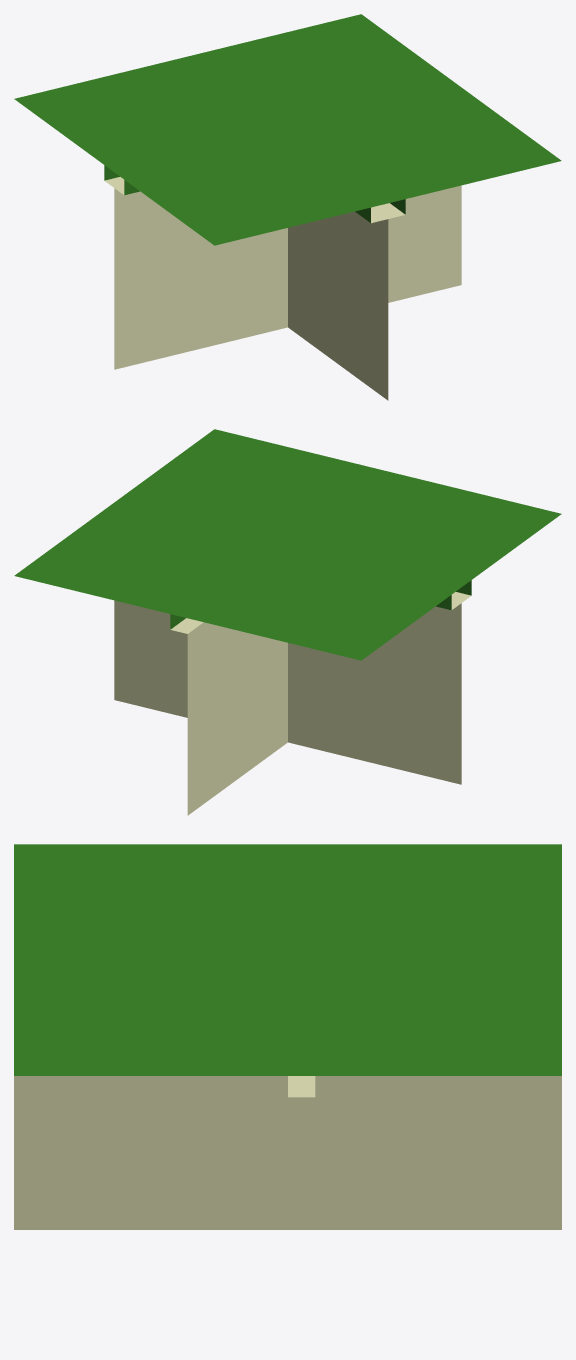
The model's file is testIslands.fbx.
3 renders of one model, top to bottom at view 1: azimuth 30°, elevation 25°; view 2: azimuth 150°, elevation 25°; view 3: azimuth 270°, elevation 25°, orthographic. The views are drawn at different scales.
Parts seen in each view (by area): view 1: doubleCorner, centerWall, innerCorner, cornerWall, sideWall; view 2: centerWall, innerCorner, cornerWall, doubleCorner, sideWall; view 3: centerWall, innerCorner, sideWall, doubleCorner, cornerWall.
Boxes of the visible parts, box(x1,y1,x2,y2) form: doubleCorner: box(114, 14, 461, 400); centerWall: box(14, 37, 561, 245); innerCorner: box(104, 56, 560, 327); cornerWall: box(299, 20, 460, 302); sideWall: box(296, 81, 454, 122); centerWall: box(80, 429, 561, 660); innerCorner: box(114, 429, 461, 784); cornerWall: box(60, 512, 287, 815); doubleCorner: box(14, 510, 471, 759); sideWall: box(98, 504, 267, 633); centerWall: box(14, 844, 561, 1075); innerCorner: box(14, 849, 561, 1229); sideWall: box(260, 971, 561, 1229); doubleCorner: box(219, 845, 561, 1097); cornerWall: box(288, 971, 545, 1097).
Bounding box in the file's own units: 100 × 54.33 × 100.
